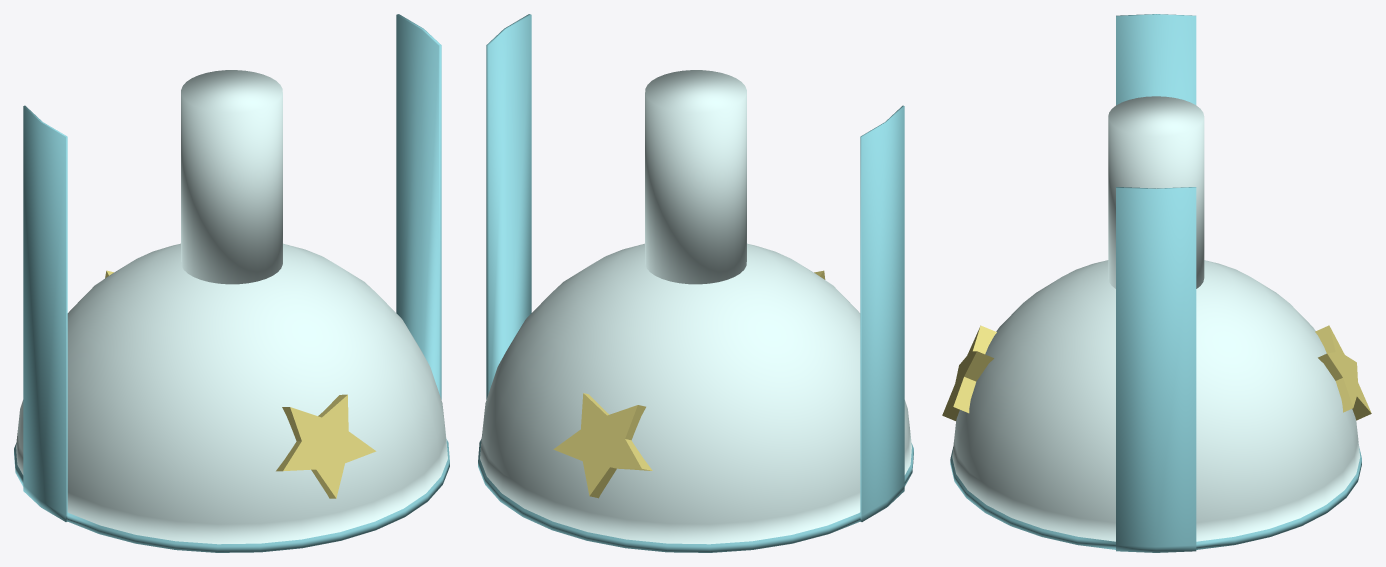
The model's file is FountainStageTOP.fbx.
3 renders of one model, left to right at view 1: azimuth 30°, elevation 25°; view 2: azimuth 150°, elevation 25°; view 3: azimuth 270°, elevation 25°, orthographic. The views are drawn at different scales.
Visible parts, largest first — view 1: Base.001, Star; view 2: Base.001, Star.001; view 3: Base.001, Star.001, Star.
Part boxes in pixels (x1,y1,x2,y2): Base.001: (14,14,449,552); Star: (276,394,376,498); Base.001: (478,14,913,552); Star.001: (553,393,652,498); Base.001: (950,14,1361,552); Star.001: (1315,325,1371,420); Star: (942,325,996,420).
Bounding box in the file's own units: 2209 × 2124 × 2277.
